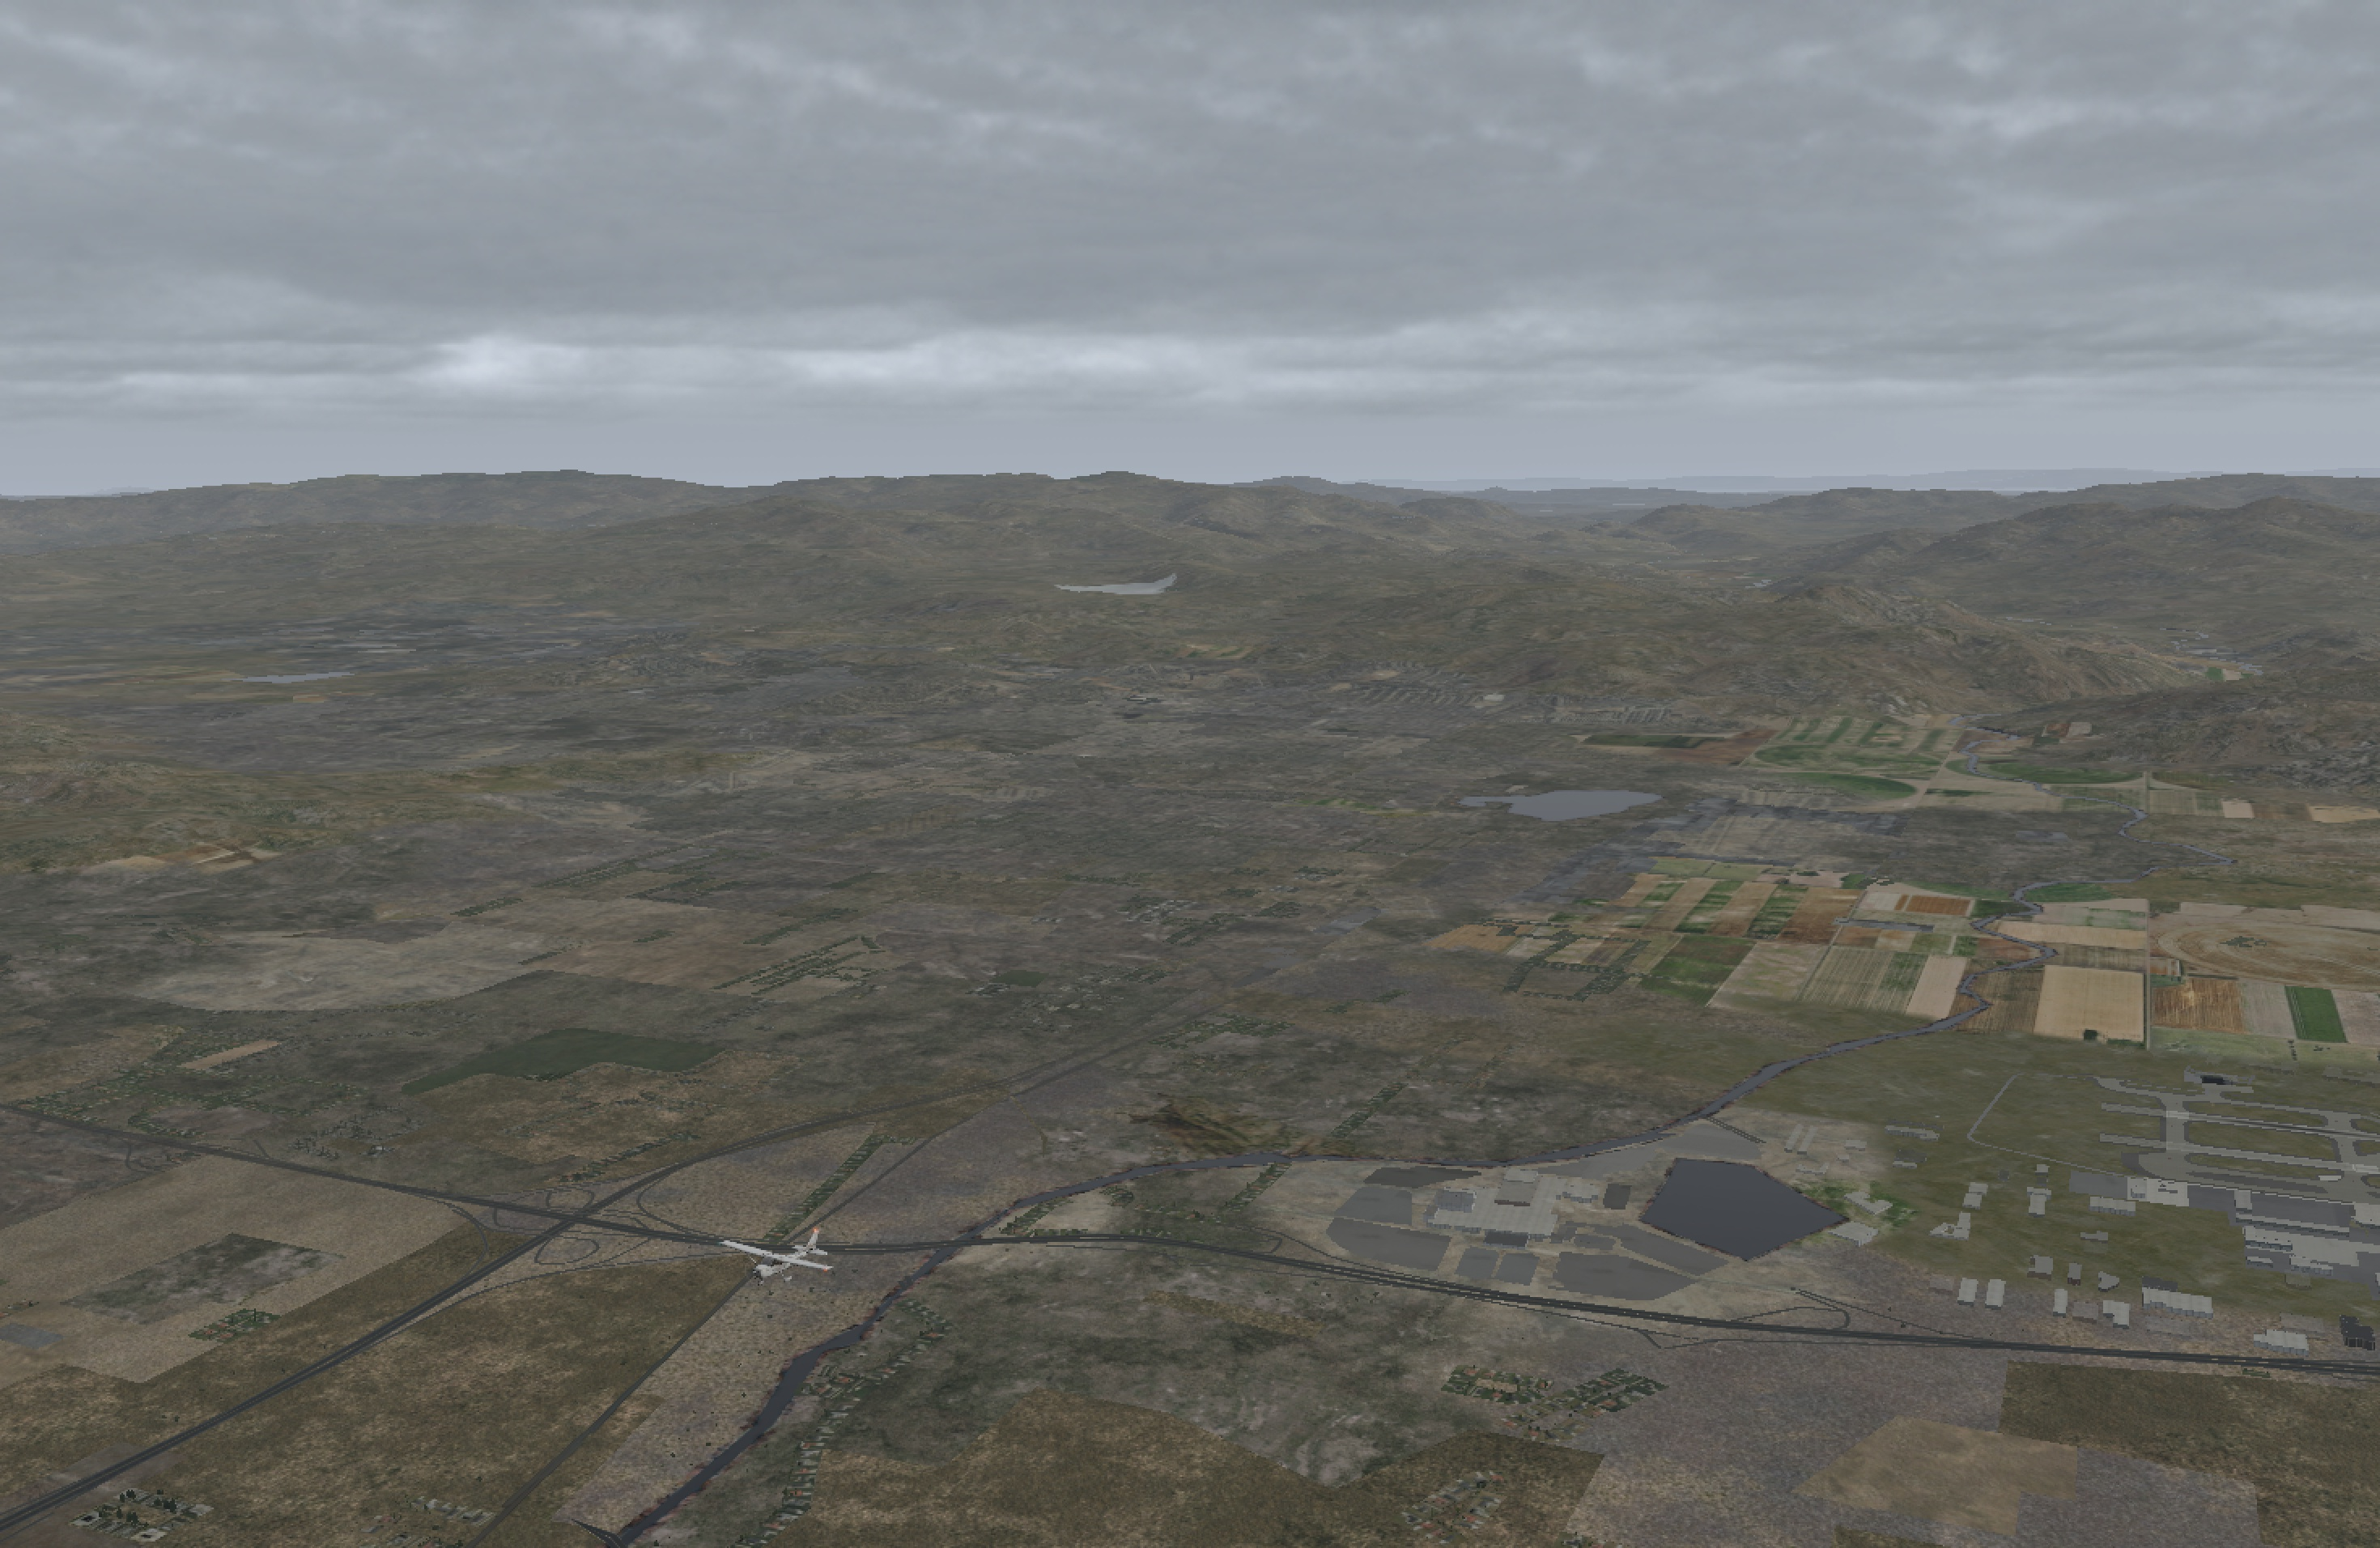aircraft: (725, 1246, 821, 1282)
